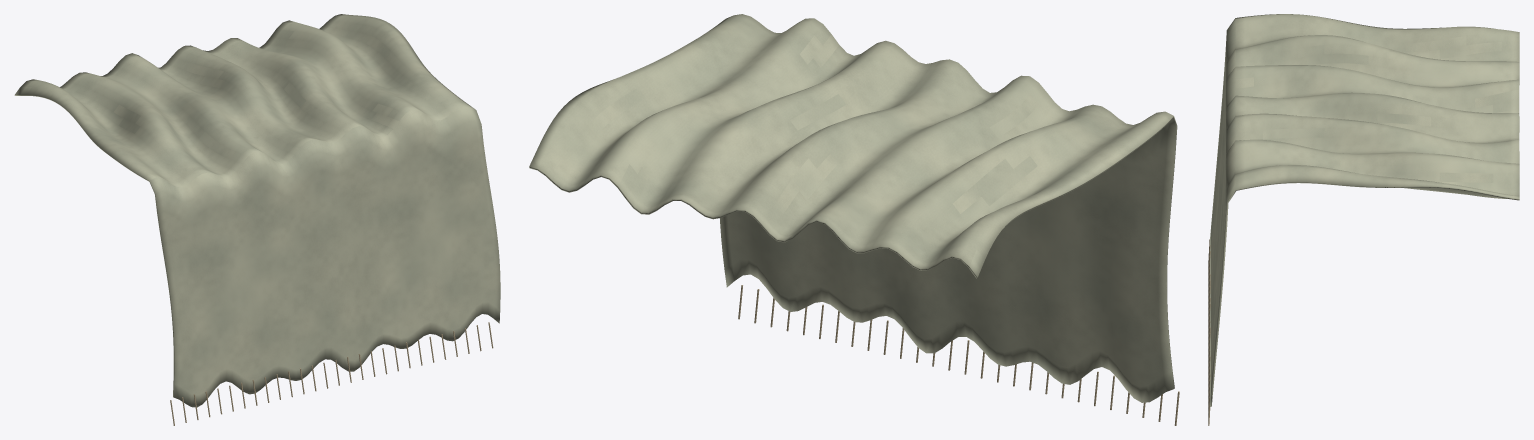
File: Throw.fbx
3 renders of one model, left to right at view 1: azimuth 30°, elevation 25°; view 2: azimuth 150°, elevation 25°; view 3: azimuth 270°, elevation 25°, orthographic. The views are drawn at different scales.
Visible parts, largest first — view 1: Throw_Towel, Throw_Linen; view 2: Throw_Towel, Throw_Linen; view 3: Throw_Towel, Throw_Linen.
Boxes of the visible parts, x1,y1,x2,y2 form: Throw_Towel: [14, 14, 500, 407]; Throw_Linen: [170, 322, 493, 425]; Throw_Towel: [529, 14, 1177, 402]; Throw_Linen: [738, 285, 1179, 425]; Throw_Towel: [1210, 14, 1519, 406]; Throw_Linen: [1208, 239, 1210, 425].
Bounding box in the file's own units: 91.22 × 62.32 × 69.75.
